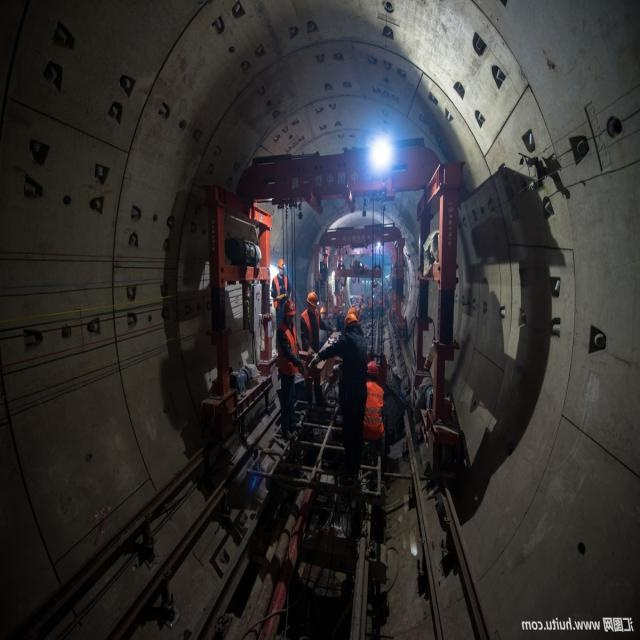Con_Casco: (306, 291, 319, 312)
Con_Chaleco: (277, 324, 300, 374), (364, 381, 384, 434), (271, 273, 290, 304)
